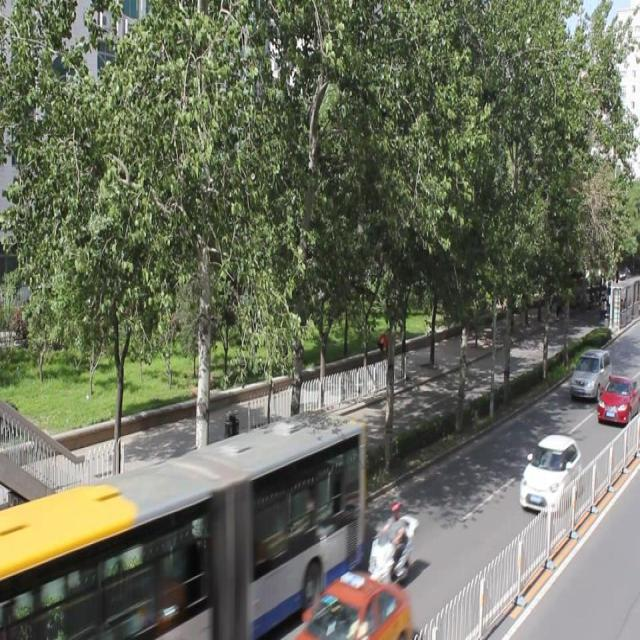car: (292, 571, 409, 640), (518, 433, 580, 513), (596, 374, 640, 426), (567, 347, 610, 398)
van: (1, 422, 363, 640)
